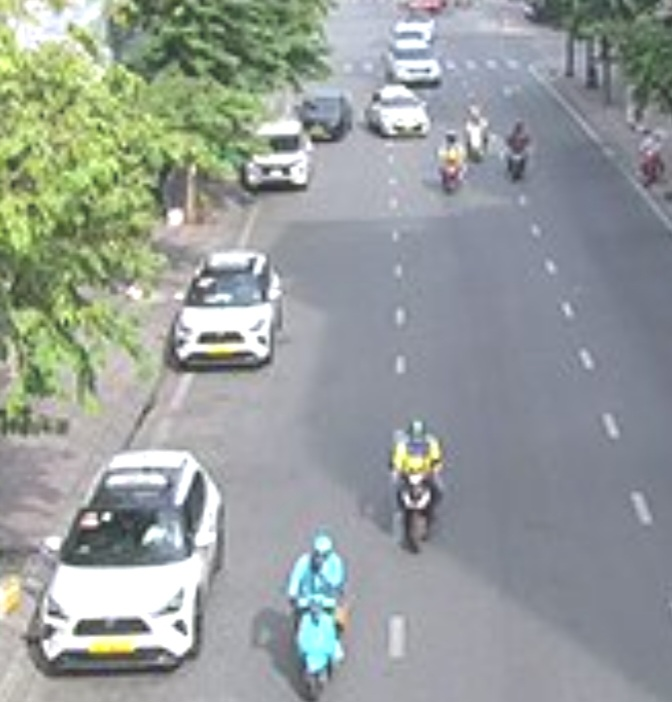car: (32, 444, 238, 678), (181, 252, 281, 374), (247, 121, 310, 193), (367, 86, 428, 138), (300, 89, 353, 143), (386, 44, 442, 87)
